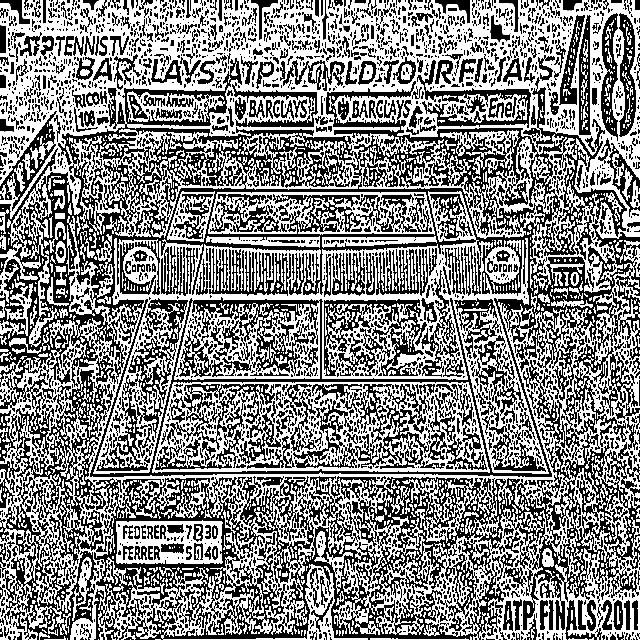left side: (91, 189, 216, 474), (426, 190, 550, 474)
player: (410, 250, 450, 356), (510, 127, 540, 208)
